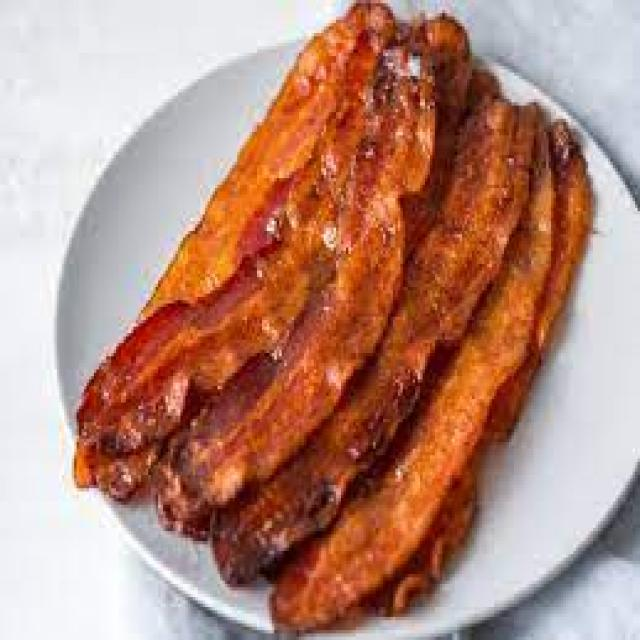Bacon: (275, 122, 590, 630), (214, 98, 537, 562), (156, 40, 435, 533), (77, 100, 364, 455), (145, 3, 394, 318), (215, 342, 430, 585), (403, 13, 469, 256), (77, 441, 161, 500)
